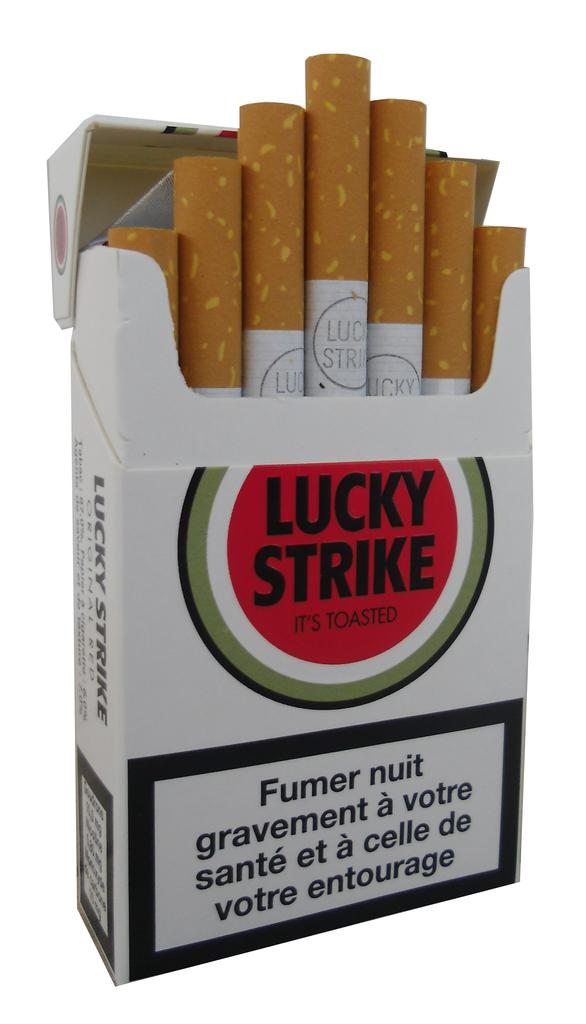lucky_strike_red: (120, 270, 523, 890)
